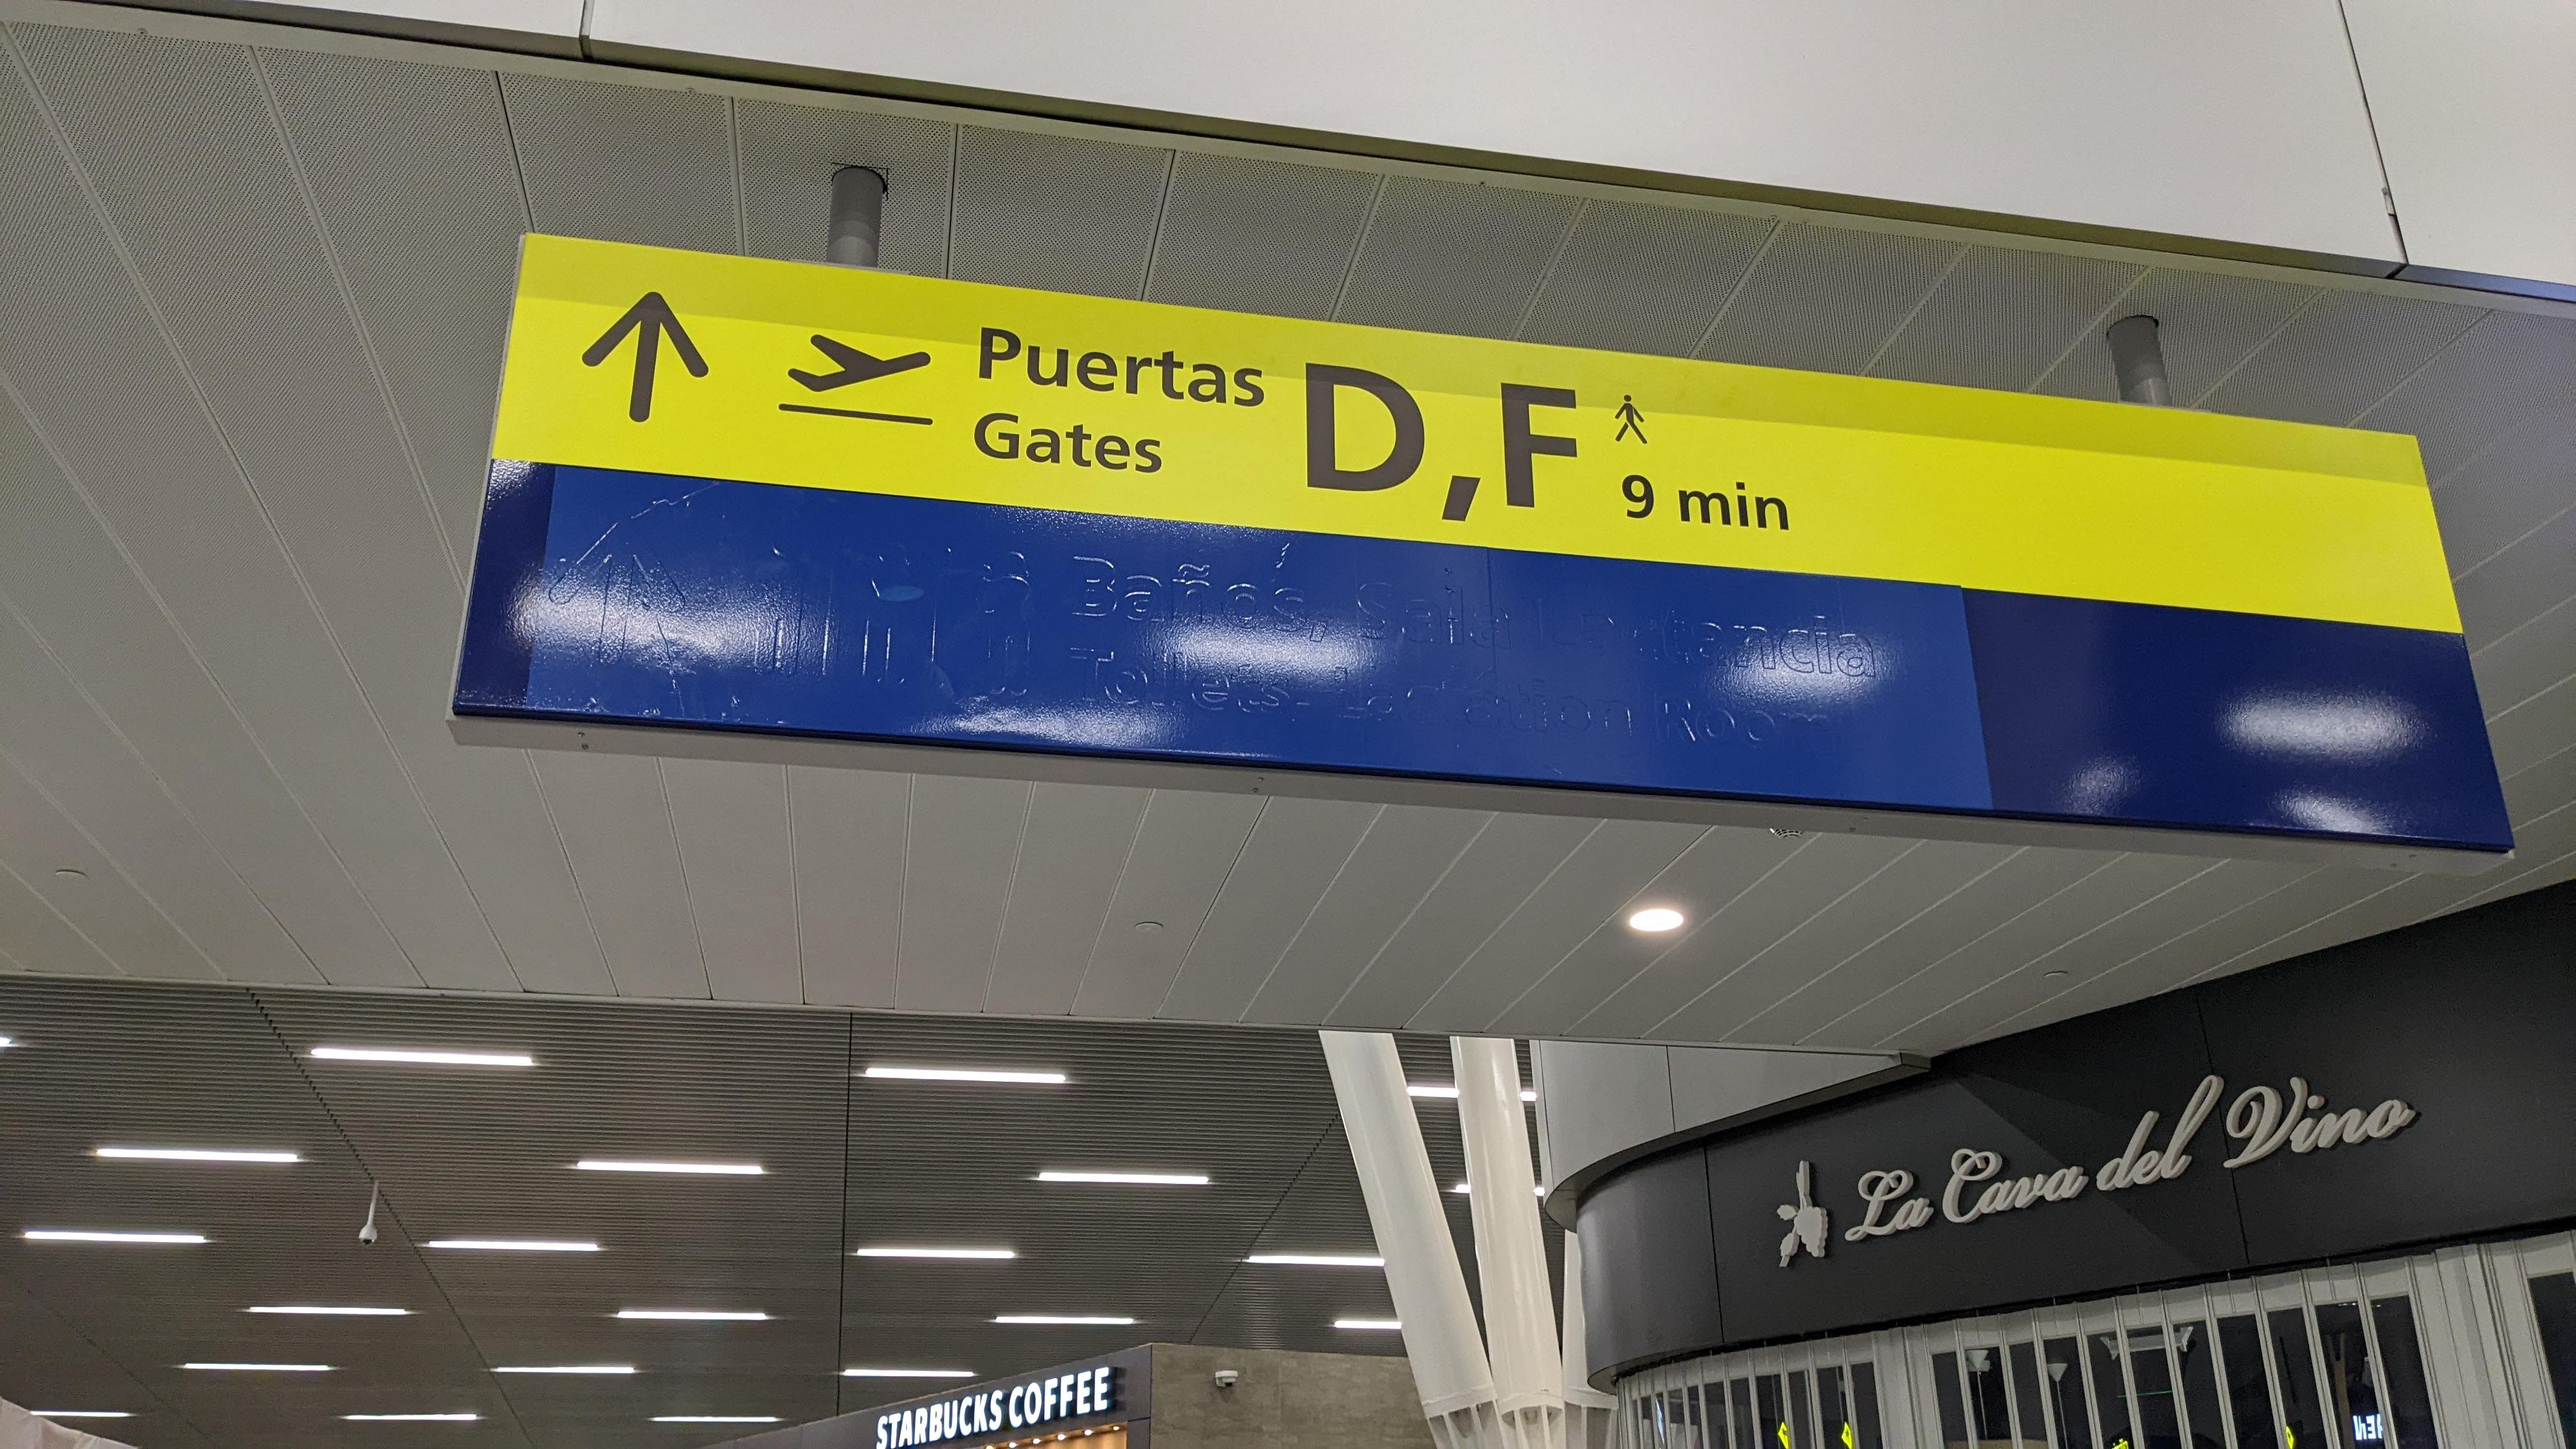airplane symbol: (784, 329, 941, 398)
thin up arrow: (575, 281, 709, 425)
